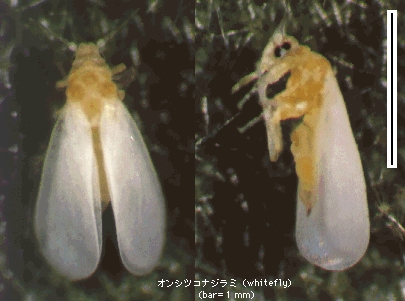whitefly: (30, 15, 166, 279), (231, 15, 370, 266)
